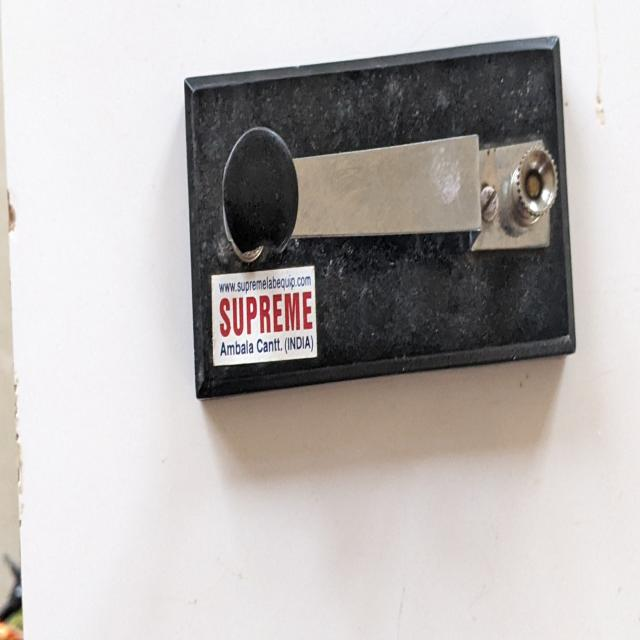Press Key: (173, 23, 579, 414)
